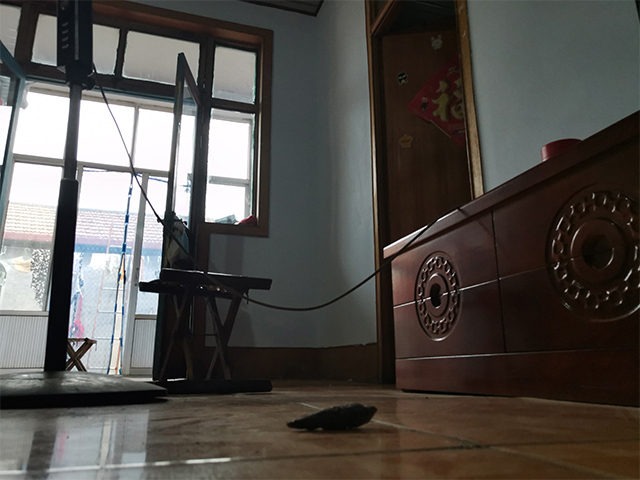cabinet: (381, 108, 640, 409)
feces: (286, 401, 380, 433)
stool: (135, 266, 275, 398), (65, 335, 98, 372)
